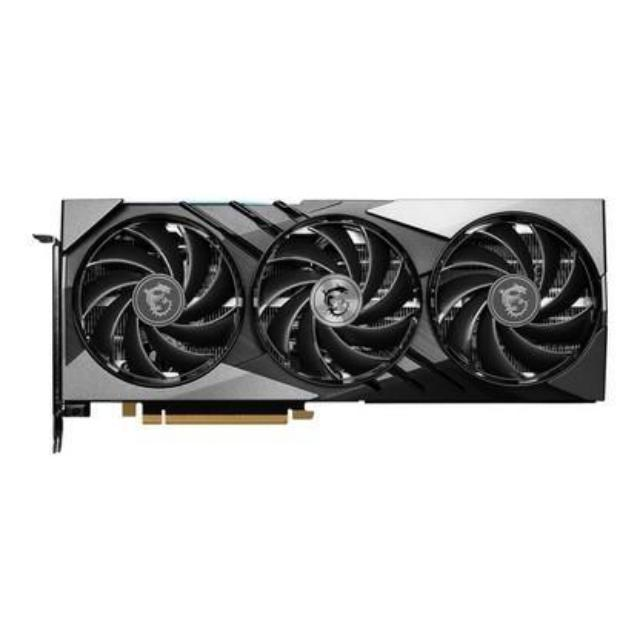GPU: (51, 192, 612, 428)
